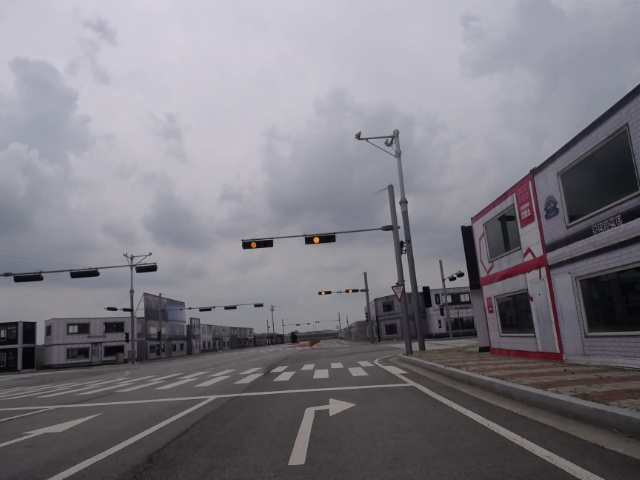orange_4: (304, 233, 337, 245), (240, 239, 275, 250), (344, 288, 362, 294), (318, 290, 334, 295)
